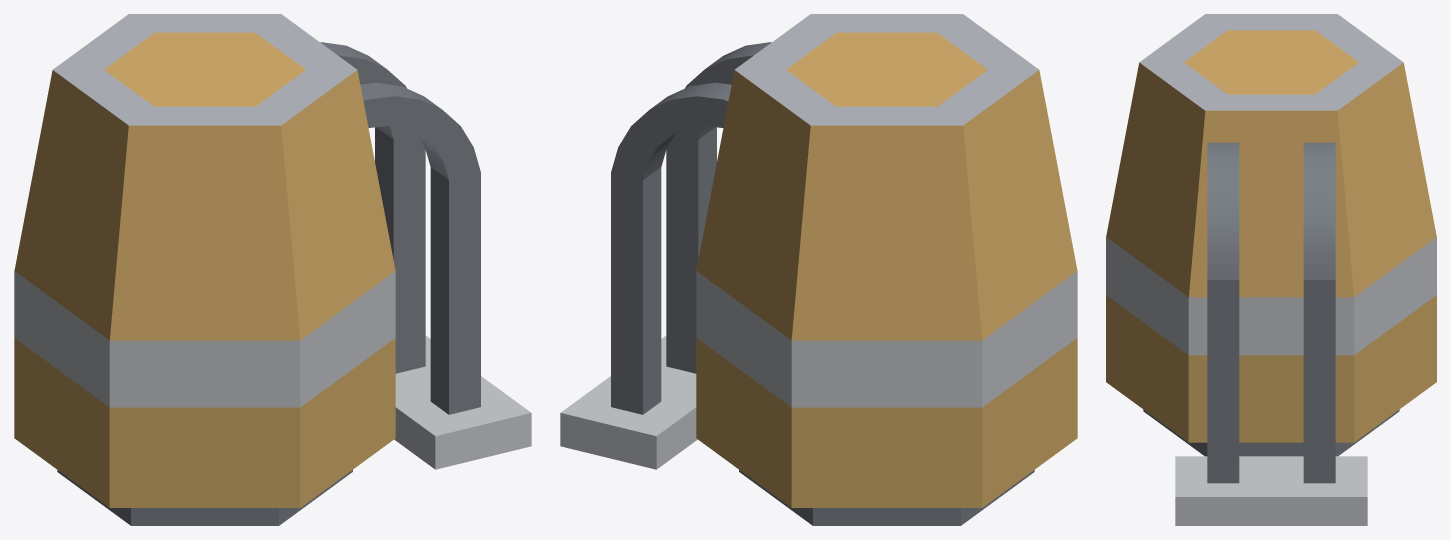
File: machine_barrel.glb
3 renders of one model, left to right at view 1: azimuth 30°, elevation 25°; view 2: azimuth 150°, elevation 25°; view 3: azimuth 270°, elevation 25°, orthographic. The views are drawn at different scales.
Parts seen in each view (by area): view 1: machine_barrel; view 2: machine_barrel; view 3: machine_barrel.
Part boxes in pixels (x1,y1,x2,y2): machine_barrel: [14, 14, 531, 525]; machine_barrel: [560, 14, 1077, 525]; machine_barrel: [1106, 14, 1436, 525].
Bounding box in the file's own units: 0.6464 × 0.6 × 0.5155.
